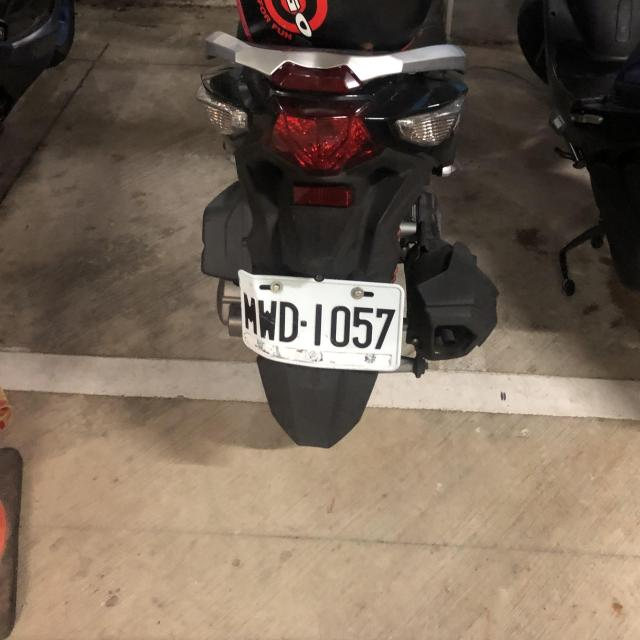W: (236, 271, 403, 372)
